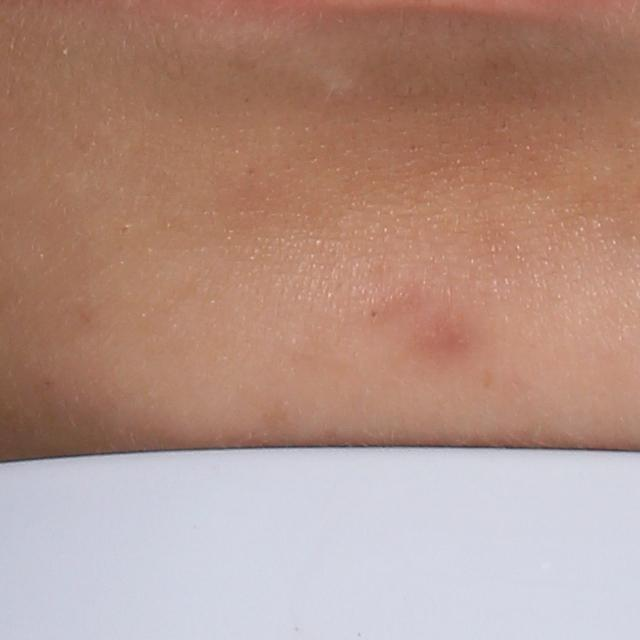comedo: (367, 307, 381, 324)
hypertrophic_scar: (309, 65, 363, 95)
